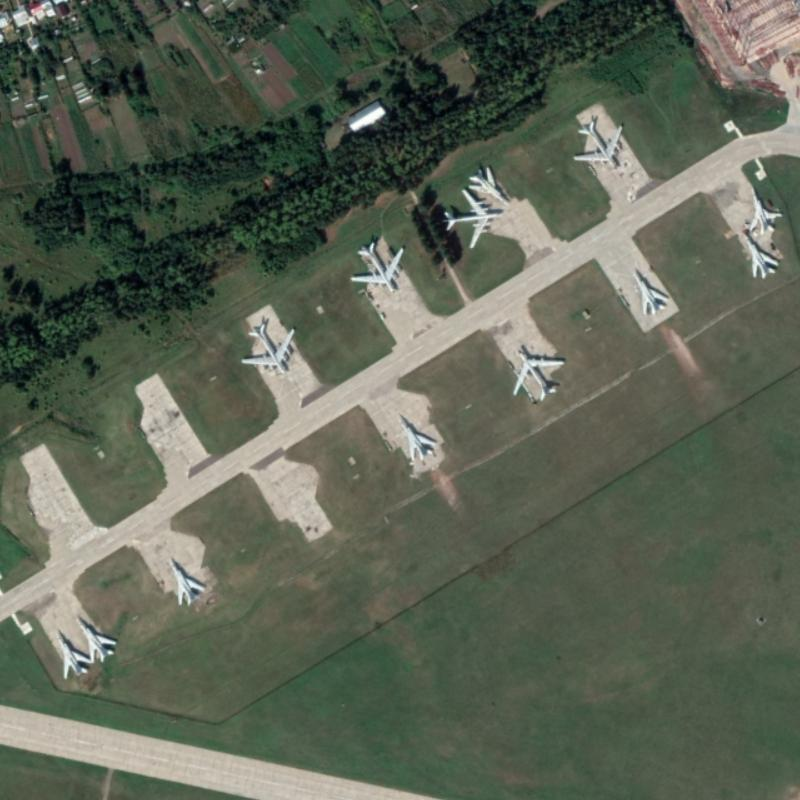A12: (73, 614, 117, 663), (394, 411, 436, 461), (629, 265, 669, 316), (165, 555, 205, 606), (53, 627, 92, 679), (741, 230, 779, 279), (465, 165, 511, 205), (747, 186, 783, 235)
A17: (439, 187, 500, 249), (239, 320, 296, 375), (510, 346, 565, 401), (348, 239, 404, 293), (571, 119, 624, 168)
